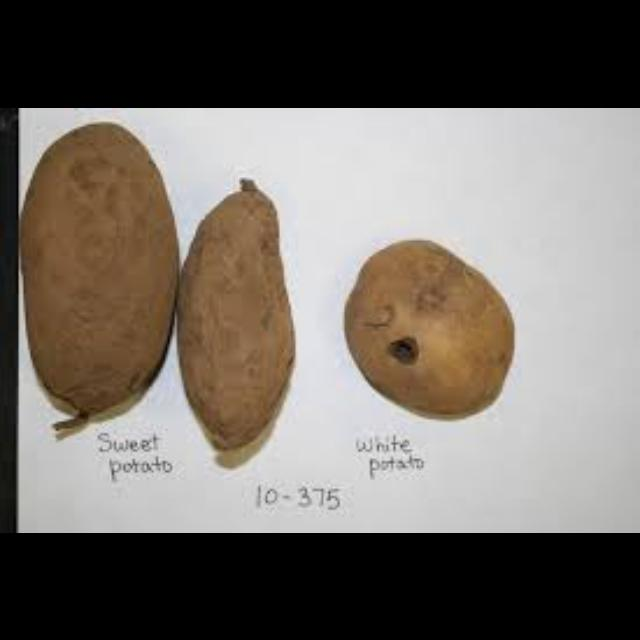Damaged potato: (140, 160, 314, 472), (14, 120, 180, 434), (340, 217, 544, 438)
